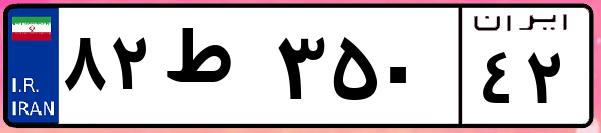0: (385, 28, 445, 110)
2: (525, 38, 570, 115), (110, 28, 158, 98)
3: (270, 28, 330, 110)
4: (475, 38, 525, 113)
5: (330, 28, 385, 110)
8: (57, 26, 110, 100)
ط: (158, 20, 270, 120)
